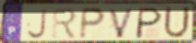J: (26, 8, 48, 40)
P: (134, 6, 164, 40), (79, 6, 108, 41)
R: (51, 7, 79, 40)
U: (162, 5, 192, 40)
V: (108, 7, 136, 40)
